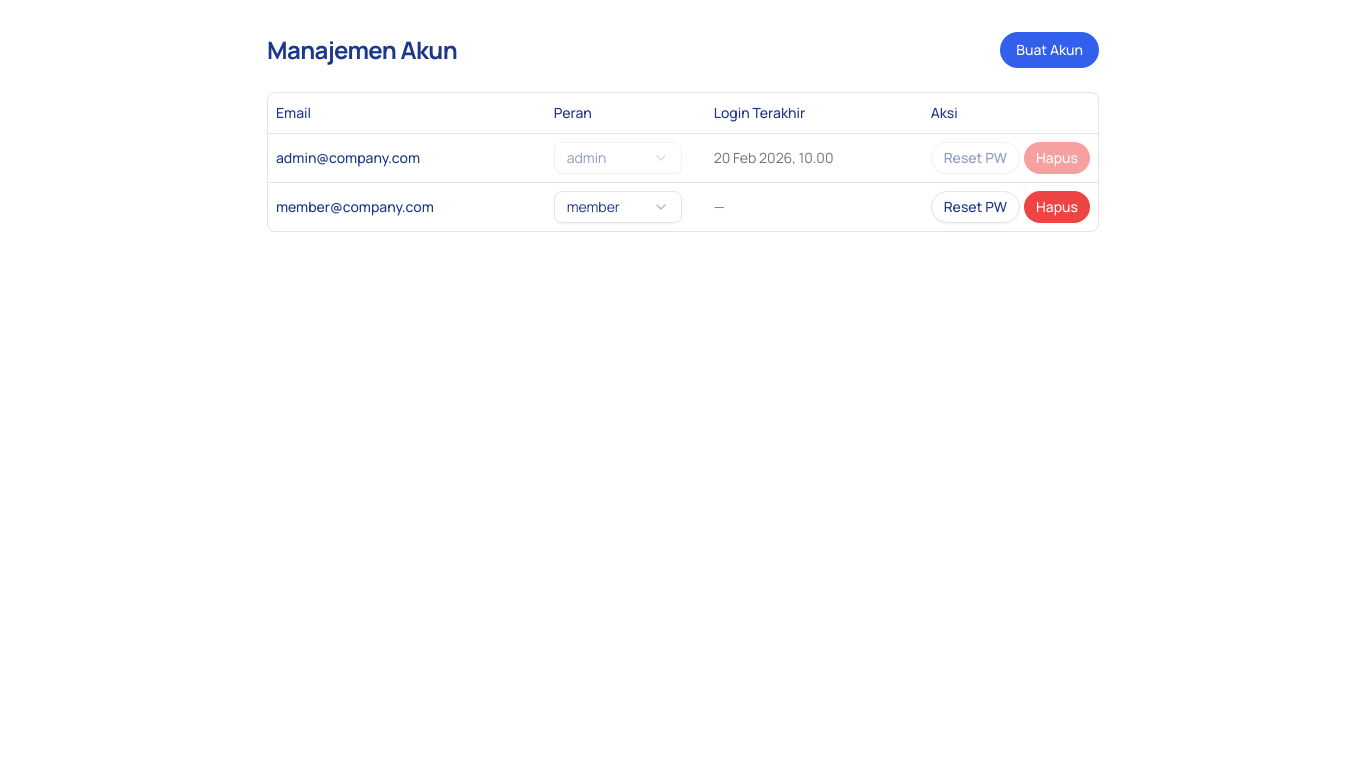
Scenario: AccountsPage › opens delete confirmation dialog
Step 1. Click the button "Hapus" in the row of "member@company.com" → (1057, 206), box [1024,190,1090,222]
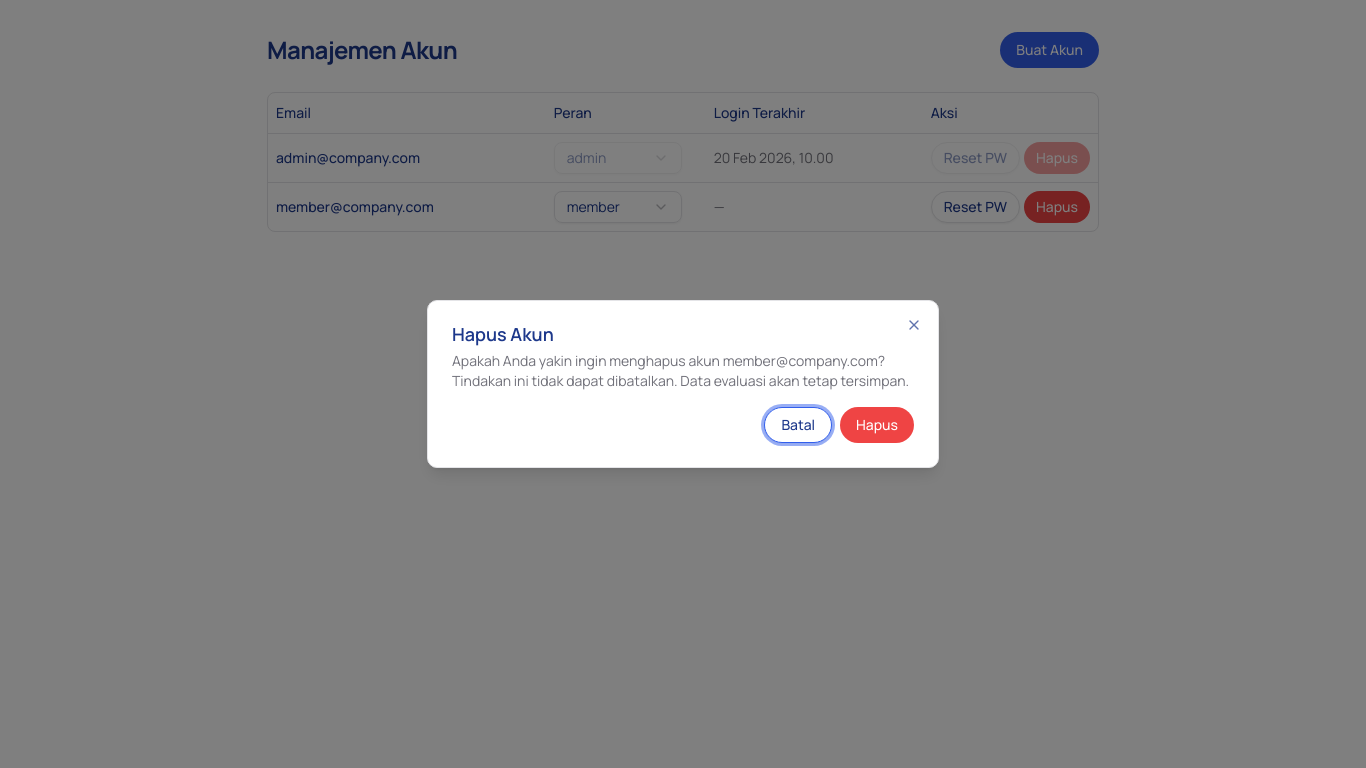
Expected: the heading "Hapus Akun" is shown, [452,322,554,346]
Expected: the text "member@company.com" is shown, [452,351,909,390]
